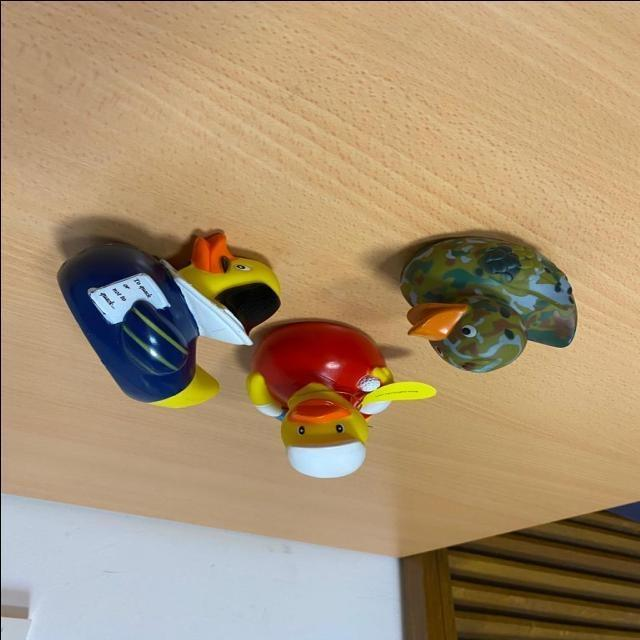rubber-duck: (57, 231, 278, 405), (246, 320, 434, 476), (400, 235, 575, 370)
